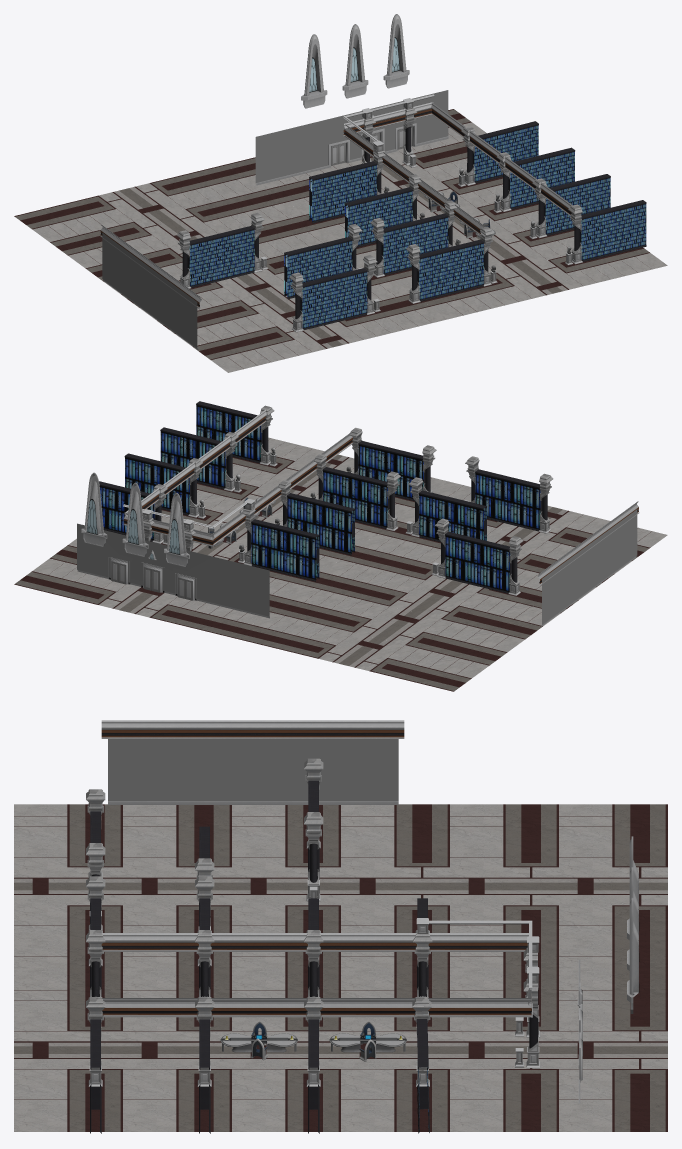
The model's file is env_cor_jeditemplearchives_pre.glb.
3 views of the same model, one above another, from view 1: azimuth 30°, elevation 25°; view 2: azimuth 150°, elevation 25°; view 3: azimuth 270°, elevation 25° (orthographic). The views are drawn at different scales.
Visible parts, largest first — view 1: cor_jeditemplearchive_shelf_01 (×11), cor_jeditemplearchive_floor_01 (×2), cor_jeditemplearchive_floor_01 (4) (×2), cor_jeditemplearchive_floor_01 (5) (×2), cor_jeditemplearchive_floor_01 (1) (×2), cor_jeditemplearchive_floor_01 (3) (×2), cor_jeditemplearchive_floor_01 (2) (×2), cor_jeditemplearchive_wall_01, cor_jeditemplearchive_wall_02 (2), cor_jeditemplearchive_wall_02 (3), cor_jeditemplearchive_wall_02, cor_jeditemplearchive_window_01 (3) (+4 smaller); view 2: cor_jeditemplearchive_shelf_01 (×11), cor_jeditemplearchive_floor_01 (5) (×2), cor_jeditemplearchive_floor_01 (3) (×2), cor_jeditemplearchive_floor_01 (4) (×2), cor_jeditemplearchive_floor_01 (2) (×2), cor_jeditemplearchive_floor_01 (×2), cor_jeditemplearchive_wall_01, cor_jeditemplearchive_floor_01 (1) (×2), cor_jeditemplearchive_wall_02 (2), cor_jeditemplearchive_wall_02 (3), cor_jeditemplearchive_wall_02, cor_jeditemplearchive_window_01 (4) (+8 smaller); view 3: cor_jeditemplearchive_floor_01 (5) (×2), cor_jeditemplearchive_floor_01 (×2), cor_jeditemplearchive_floor_01 (4) (×2), cor_jeditemplearchive_floor_01 (1) (×2), cor_jeditemplearchive_floor_01 (3) (×2), cor_jeditemplearchive_floor_01 (2) (×2), cor_jeditemplearchive_wall_02 (2), cor_jeditemplearchive_wall_02 (3), cor_jeditemplearchive_wall_trim_01 (9), cor_jeditemplearchive_shelf_01 (×4), cor_jeditemplearchive_wall_trim_01 (8), cor_jeditemplearchive_wall_trim_01 (5) (+9 smaller).
Part boxes in pixels (x1,y1,x2,y2): cor_jeditemplearchive_shelf_01 (×11): [187, 121, 646, 329]; cor_jeditemplearchive_floor_01 (×2): [193, 247, 667, 372]; cor_jeditemplearchive_floor_01 (4) (×2): [50, 141, 467, 268]; cor_jeditemplearchive_floor_01 (5) (×2): [14, 109, 486, 242]; cor_jeditemplearchive_floor_01 (1) (×2): [157, 229, 574, 346]; cor_jeditemplearchive_floor_01 (3) (×2): [85, 177, 502, 294]; cor_jeditemplearchive_floor_01 (2) (×2): [121, 202, 538, 320]; cor_jeditemplearchive_wall_01: [297, 90, 448, 175]; cor_jeditemplearchive_wall_02 (2): [150, 267, 198, 349]; cor_jeditemplearchive_wall_02 (3): [102, 233, 150, 314]; cor_jeditemplearchive_wall_02: [255, 127, 297, 185]; cor_jeditemplearchive_window_01 (3): [301, 34, 327, 108]; cor_jeditemplearchive_shelf_01 (×11): [99, 401, 542, 593]; cor_jeditemplearchive_floor_01 (5) (×2): [14, 558, 488, 691]; cor_jeditemplearchive_floor_01 (3) (×2): [161, 516, 560, 639]; cor_jeditemplearchive_floor_01 (4) (×2): [50, 538, 524, 665]; cor_jeditemplearchive_floor_01 (2) (×2): [161, 490, 595, 613]; cor_jeditemplearchive_floor_01 (×2): [232, 437, 667, 560]; cor_jeditemplearchive_wall_01: [77, 523, 228, 608]; cor_jeditemplearchive_floor_01 (1) (×2): [197, 464, 631, 587]; cor_jeditemplearchive_wall_02 (2): [588, 509, 637, 591]; cor_jeditemplearchive_wall_02 (3): [541, 544, 589, 626]; cor_jeditemplearchive_wall_02: [228, 560, 269, 618]; cor_jeditemplearchive_window_01 (4): [81, 472, 107, 546]; cor_jeditemplearchive_floor_01 (5) (×2): [559, 804, 667, 1131]; cor_jeditemplearchive_floor_01 (×2): [14, 804, 122, 1131]; cor_jeditemplearchive_floor_01 (4) (×2): [450, 804, 558, 1131]; cor_jeditemplearchive_floor_01 (1) (×2): [123, 805, 231, 1131]; cor_jeditemplearchive_floor_01 (3) (×2): [341, 804, 449, 1131]; cor_jeditemplearchive_floor_01 (2) (×2): [232, 805, 340, 1131]; cor_jeditemplearchive_wall_02 (2): [108, 739, 253, 804]; cor_jeditemplearchive_wall_02 (3): [253, 739, 398, 804]; cor_jeditemplearchive_wall_trim_01 (9): [101, 720, 404, 738]; cor_jeditemplearchive_shelf_01 (×4): [90, 1019, 429, 1133]; cor_jeditemplearchive_wall_trim_01 (8): [423, 998, 531, 1017]; cor_jeditemplearchive_wall_trim_01 (5): [96, 998, 204, 1017].
Size of the model in its own units: 64.56 by 16.69 by 54.
Materials: 19 (19 with a texture image).
